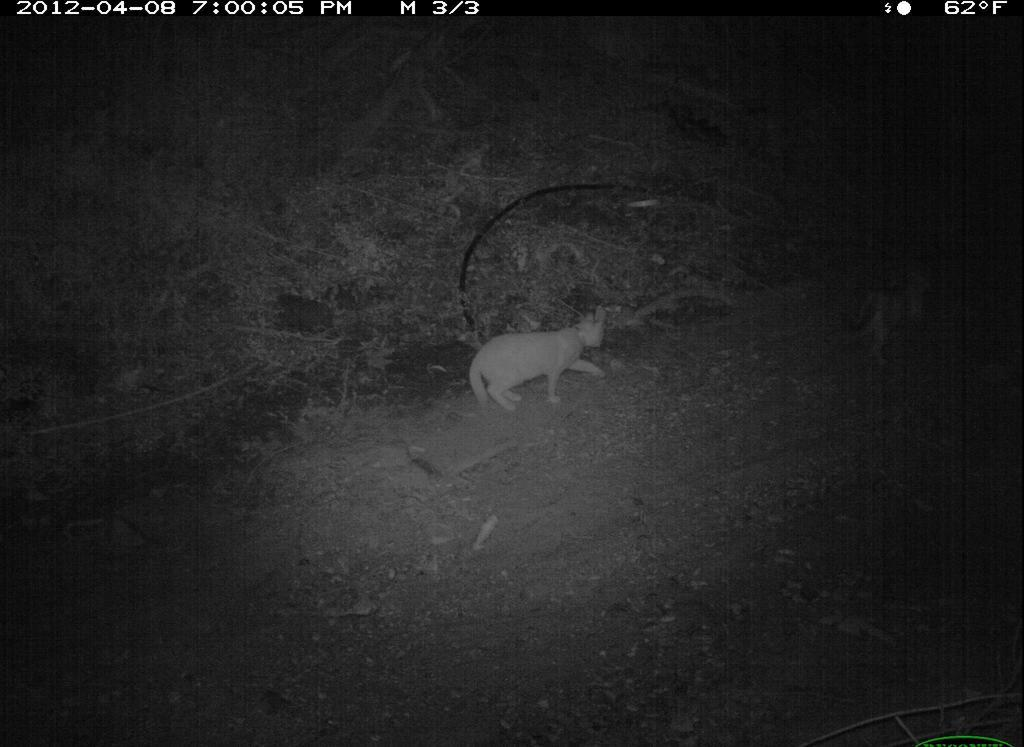cat: (468, 306, 615, 419), (848, 249, 944, 358)
